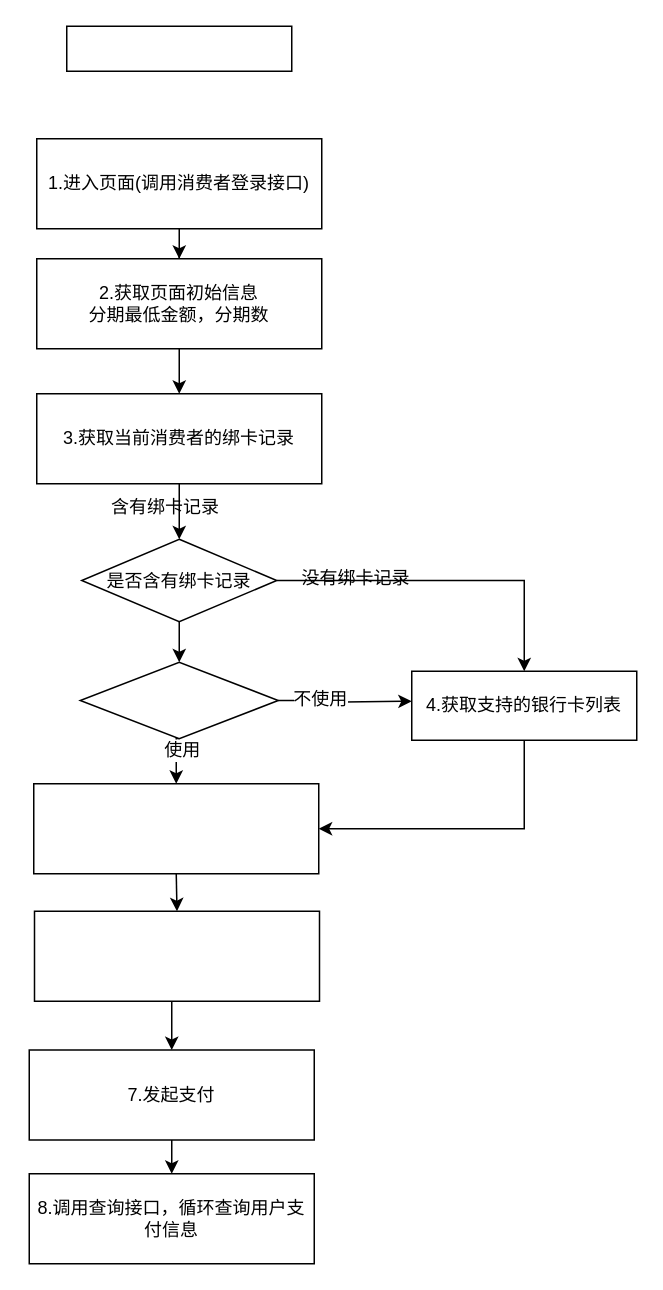
This 663x1290 diagram has some shape labels left out. Each missing label, with the box of its shape:
5.填入必要的银行卡信息: (32, 782, 319, 874)
6.创建订单(会触发发送短信验证码): (33, 910, 320, 1001)
c端页面: (65, 25, 292, 71)
使用已有信用卡: (79, 661, 278, 739)
